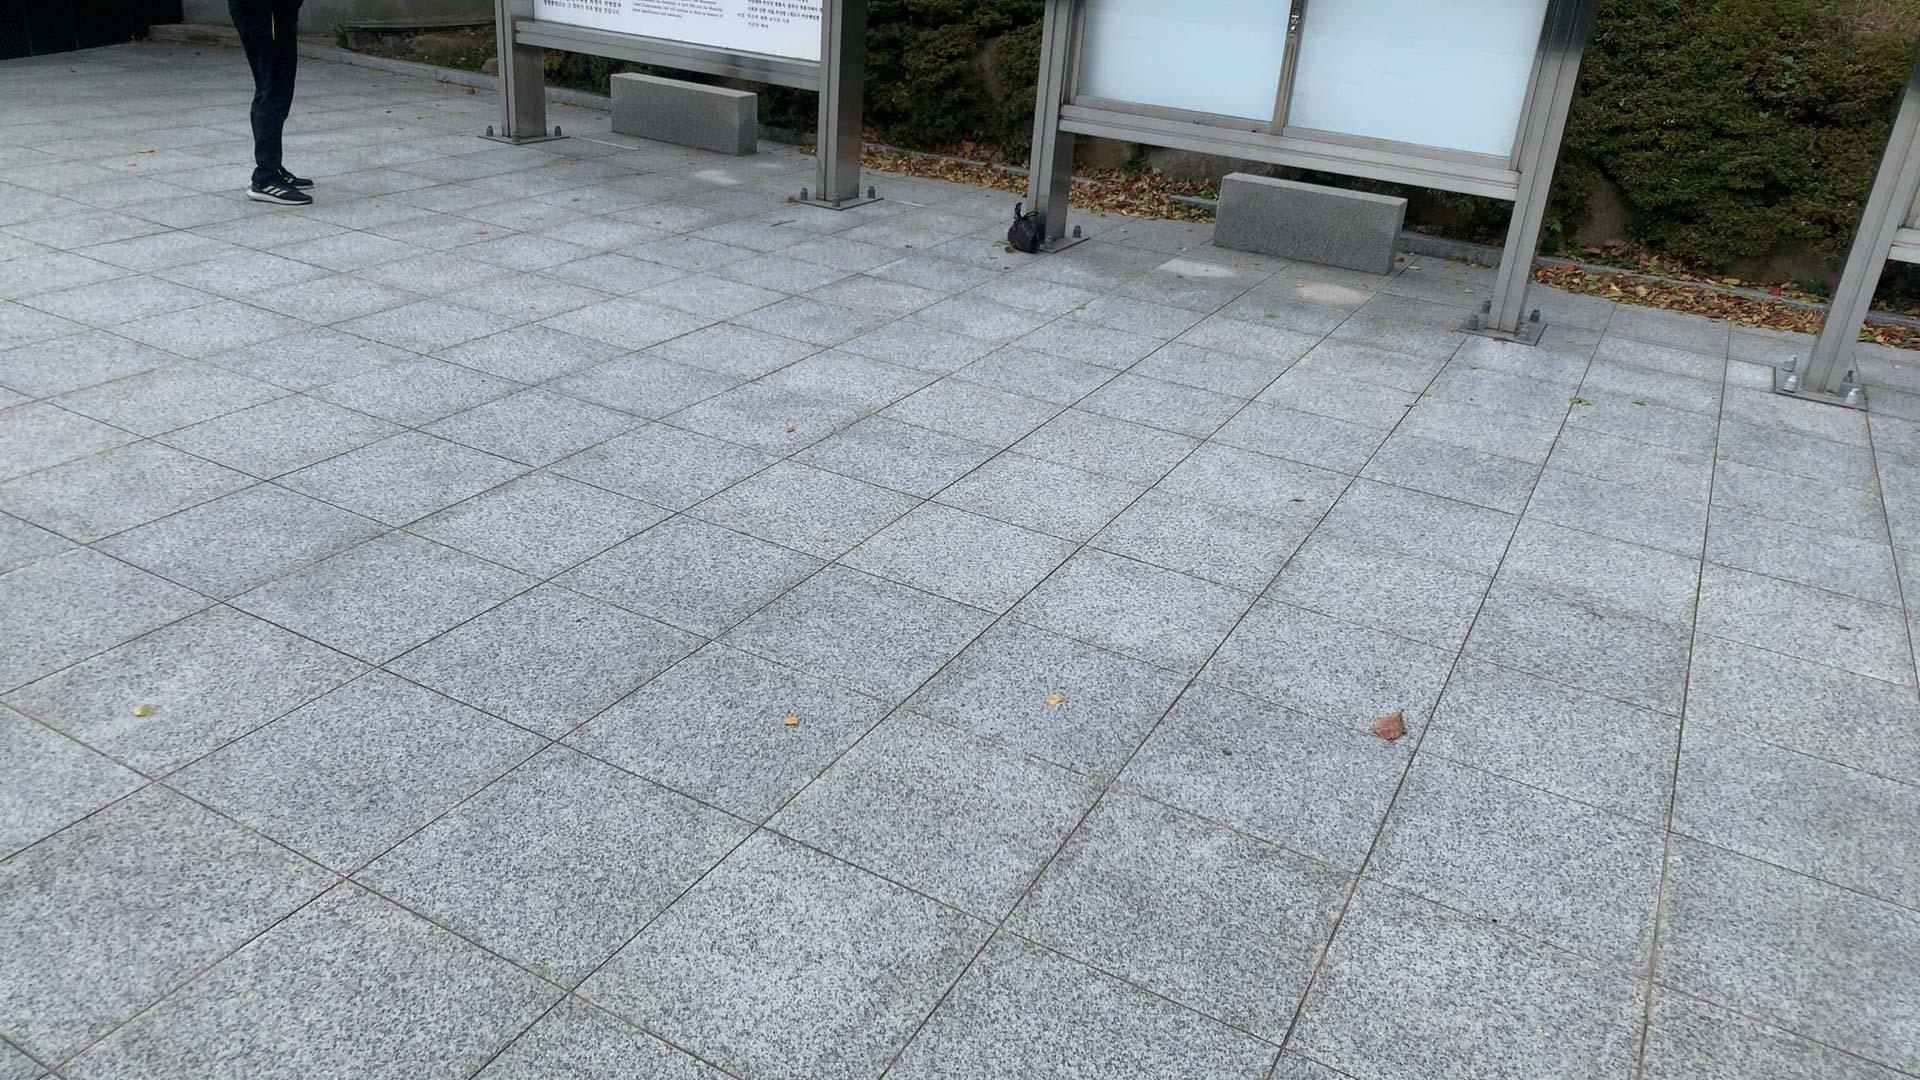black_bag: (1006, 200, 1042, 252)
